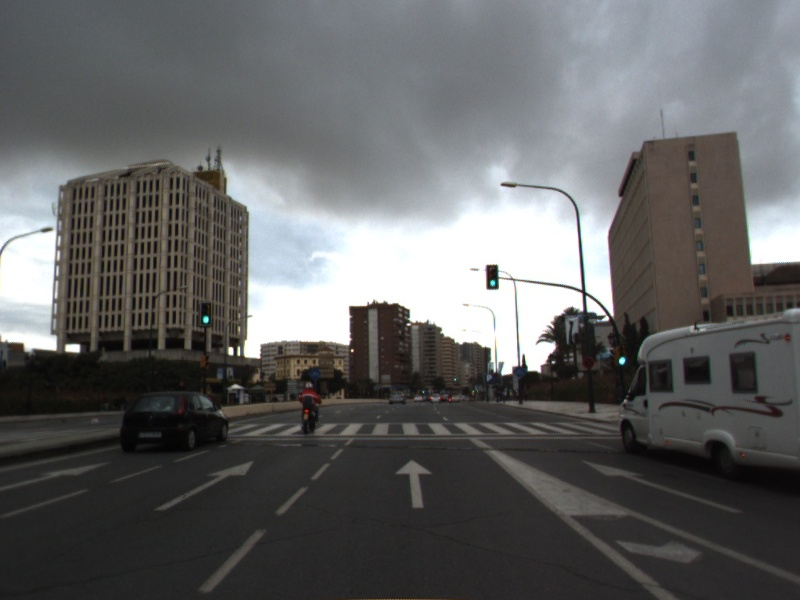STRAIGHT: (581, 458, 747, 515), (150, 459, 256, 513), (1, 458, 114, 491), (392, 457, 435, 510)
